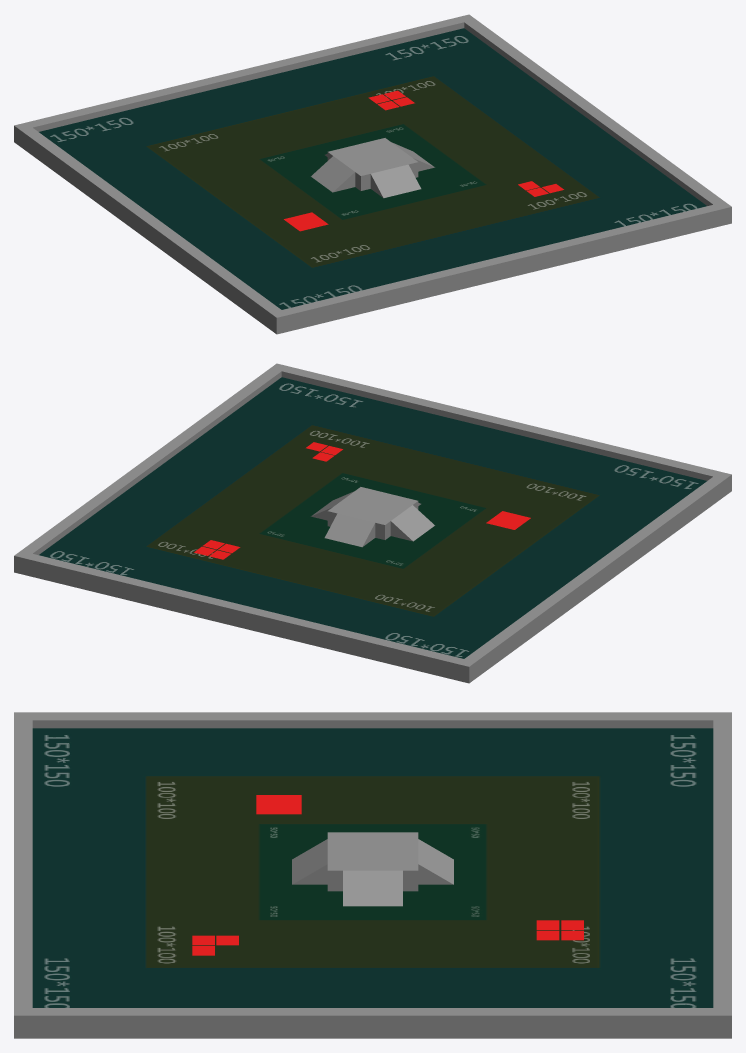
Rendered from Demo_Test.FBX.
3 renders of one model, top to bottom at view 1: azimuth 30°, elevation 25°; view 2: azimuth 150°, elevation 25°; view 3: azimuth 270°, elevation 25°, orthographic. The views are drawn at different scales.
Parts seen in each view (by area): view 1: Plane001, Plane002; view 2: Plane001, Plane002; view 3: Plane001, Plane002, Plane010.
Boxes of the visible parts, x1=… form: Plane001: x1=14, y1=14, x2=731, y2=334; Plane002: x1=311, y1=138, x2=434, y2=198; Plane001: x1=14, y1=363, x2=731, y2=683; Plane002: x1=311, y1=487, x2=434, y2=547; Plane001: x1=14, y1=712, x2=731, y2=1038; Plane002: x1=292, y1=832, x2=453, y2=906; Plane010: x1=256, y1=795, x2=301, y2=814.
Size of the model in its own units: 158 by 8.59 by 158.
3 materials, 1 textured.
